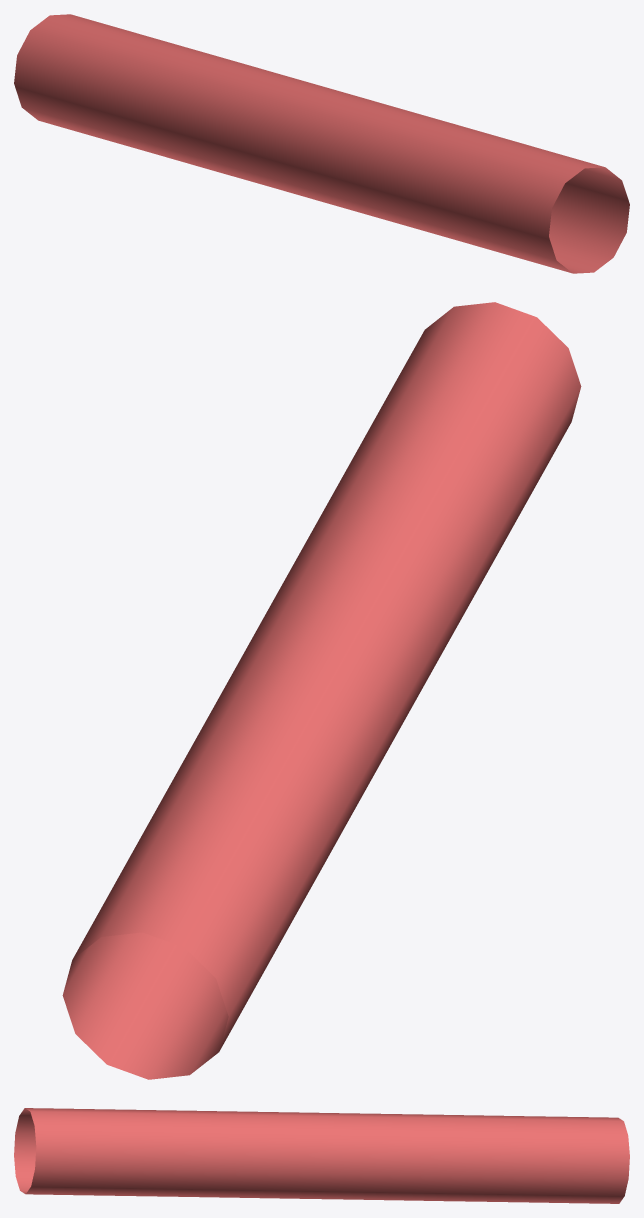
Rendered from Supreme_intercostal_artery.l_BezierCurve.384.glb.
3 renders of one model, top to bottom at view 1: azimuth 30°, elevation 25°; view 2: azimuth 150°, elevation 25°; view 3: azimuth 270°, elevation 25°, orthographic. The views are drawn at different scales.
Parts seen in each view (by area): view 1: Supreme_intercostal_artery.l_BezierCurve.384; view 2: Supreme_intercostal_artery.l_BezierCurve.384; view 3: Supreme_intercostal_artery.l_BezierCurve.384.
Boxes of the visible parts, x1,y1,x2,y2 form: Supreme_intercostal_artery.l_BezierCurve.384: (14,14,629,273); Supreme_intercostal_artery.l_BezierCurve.384: (62,302,581,1079); Supreme_intercostal_artery.l_BezierCurve.384: (14,1108,629,1203).
Bounding box in the file's own units: 0.00516 × 0.00373 × 0.0142.
